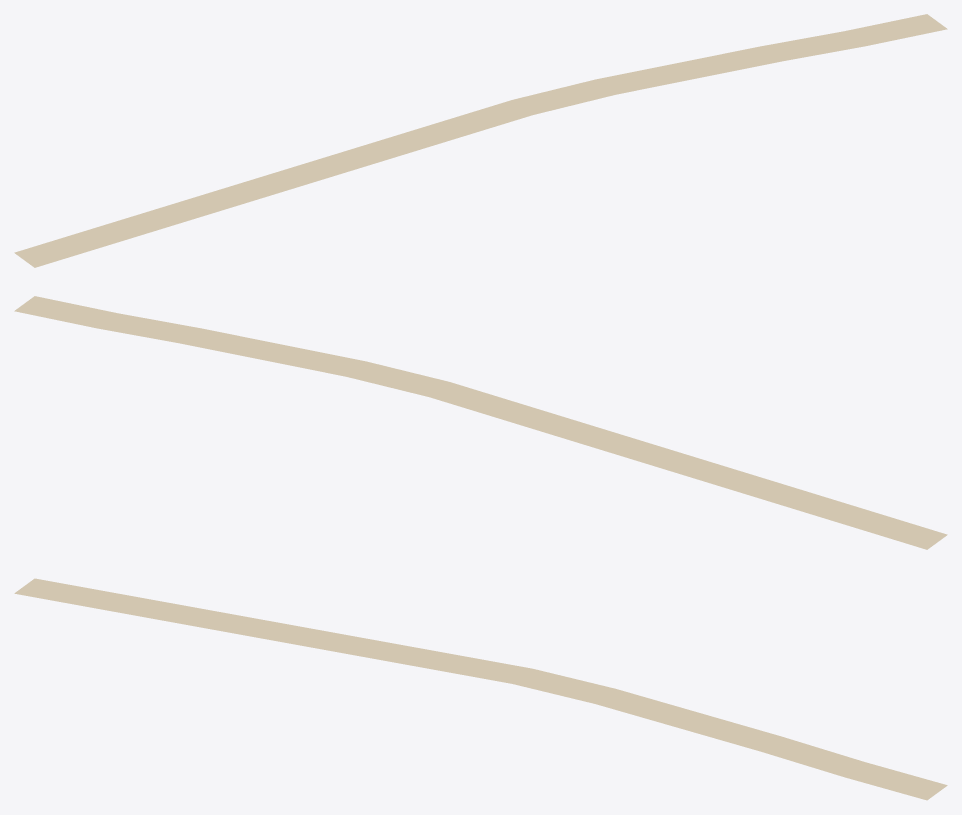
The model's file is eb_path_1930.glb.
3 views of the same model, one above another, from view 1: azimuth 30°, elevation 25°; view 2: azimuth 150°, elevation 25°; view 3: azimuth 330°, elevation 25° (orthographic).
Parts seen in each view (by area): view 1: eb_path_1930_lod0; view 2: eb_path_1930_lod0; view 3: eb_path_1930_lod0.
Part boxes in pixels (box(x1,y1,x2,y2)): eb_path_1930_lod0: box(14, 14, 947, 267); eb_path_1930_lod0: box(14, 296, 947, 549); eb_path_1930_lod0: box(14, 578, 947, 800).
Size of what is drawn, in the model's own units: 66 by 2.17 by 2.6.
